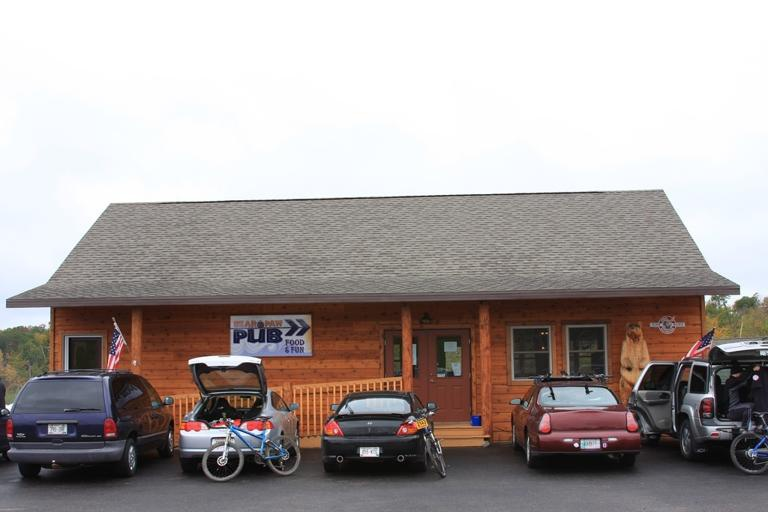non-vehicle: (200, 413, 300, 482), (400, 402, 447, 478), (730, 411, 768, 474)
